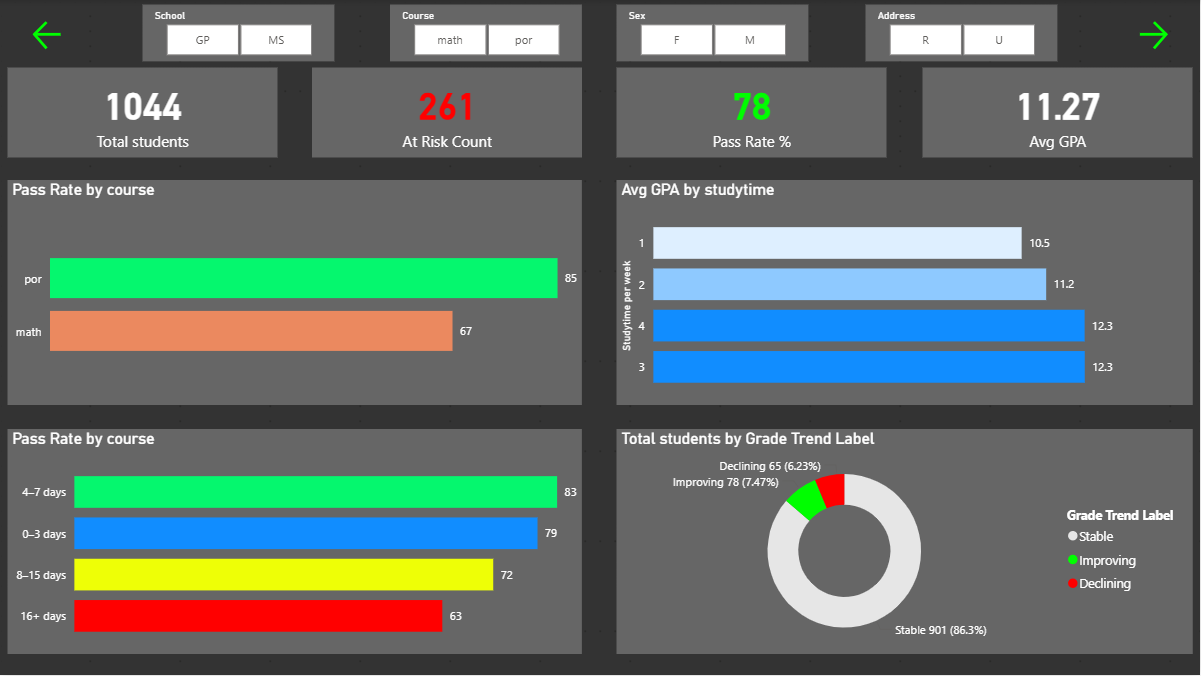

The page's visual inventory and layout, read from the dashboard file:
{"tool":"powerbi","page":{"name":"Overview","canvas":[1280,720],"ordinal":0},"visuals":[{"type":"card","fields":{"Values":["fact_grades.Total students"]},"box":[8,72,288,96],"z":0},{"type":"card","fields":{"Values":["fact_grades.Avg GPA"]},"box":[984,72,288,96],"z":1000},{"type":"card","fields":{"Values":["fact_grades.Pass Rate %"]},"box":[657.6,72,288,96],"z":2000},{"type":"card","fields":{"Values":["fact_grades.At Risk Count"]},"box":[332.8,72,288,96],"z":3000},{"type":"clusteredBarChart","title":"Pass Rate by course","fields":{"Category":["fact_grades.course"],"Y":["fact_grades.Pass Rate %"]},"box":[8,192,612.8,240],"z":4000},{"type":"clusteredBarChart","fields":{"Category":["fact_grades.studytime"],"Y":["fact_grades.Avg GPA"]},"box":[657.6,192,614.4,240],"z":5000},{"type":"clusteredBarChart","title":"Pass Rate by course","fields":{"Category":["fact_grades.Absence Bucket"],"Y":["fact_grades.Pass Rate %"]},"box":[8,457.6,612.8,240],"z":6000},{"type":"donutChart","fields":{"Category":["fact_grades.Grade Trend Label"],"Y":["fact_grades.Total students"]},"box":[657.6,457.6,614.4,240],"z":7000},{"type":"actionButton","box":[1179.2,17.6,100.8,40],"z":8000},{"type":"actionButton","box":[0,17.6,100.8,40],"z":9000},{"type":"slicer","fields":{"Values":["dim_student.school"]},"box":[152,4.8,204.8,60.8],"z":10000},{"type":"slicer","fields":{"Values":["fact_grades.course"]},"box":[416,4.8,204.8,60.8],"z":11000},{"type":"slicer","fields":{"Values":["dim_student.sex"]},"box":[657.6,4.8,204.8,60.8],"z":12000},{"type":"slicer","fields":{"Values":["dim_student.address"]},"box":[923.2,4.8,204.8,60.8],"z":13000}]}

Visuals, with their boxes in screenshot pixels (x1, y1, x2, y2), scaled from the page's 1280x720 canvas onto the 1201x676 screenshot:
card - fact_grades.Total students: 8 68 278 158
card - fact_grades.Avg GPA: 923 68 1193 158
card - fact_grades.Pass Rate %: 617 68 887 158
card - fact_grades.At Risk Count: 312 68 582 158
"Pass Rate by course" clusteredBarChart: 8 180 582 406
clusteredBarChart - fact_grades.studytime x fact_grades.Avg GPA: 617 180 1193 406
"Pass Rate by course" clusteredBarChart: 8 430 582 655
donutChart - fact_grades.Grade Trend Label x fact_grades.Total students: 617 430 1193 655
actionButton: 1106 17 1200 54
actionButton: 0 17 95 54
slicer - dim_student.school: 143 5 335 62
slicer - fact_grades.course: 390 5 582 62
slicer - dim_student.sex: 617 5 809 62
slicer - dim_student.address: 866 5 1058 62
